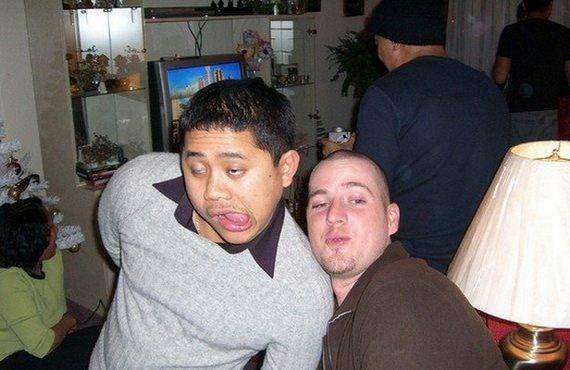Drunk: (181, 126, 274, 243), (307, 164, 382, 272)
